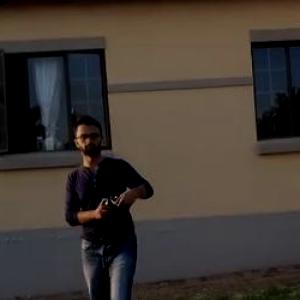follow: (60, 107, 162, 299)
